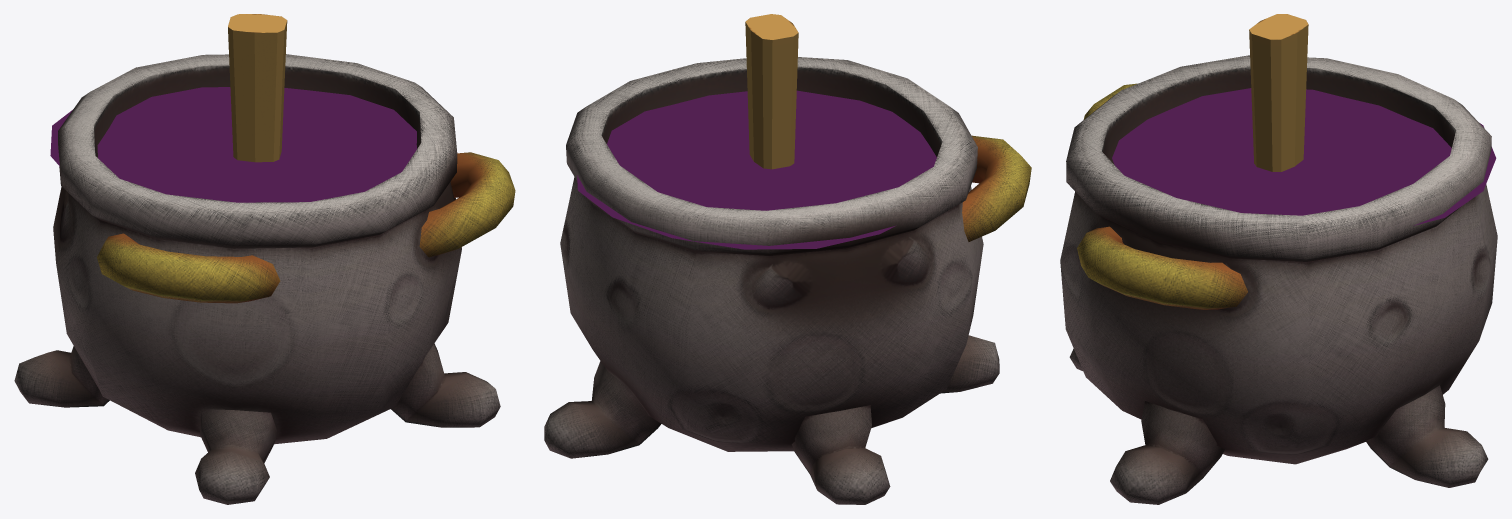
Rendered from Caldero.fbx.
3 renders of one model, left to right at view 1: azimuth 30°, elevation 25°; view 2: azimuth 150°, elevation 25°; view 3: azimuth 270°, elevation 25°, orthographic. The views are drawn at different scales.
Visible parts, largest first — view 1: Cube.023, Cube.024, Torus.001, Cylinder.013, Cylinder.003, Cylinder.004; view 2: Cube.023, Cube.024, Cylinder.004, Cylinder.003, Cylinder.013, Torus.001; view 3: Cube.023, Cube.024, Cylinder.003, Torus.001, Cylinder.013, Cylinder.004.
Boxes of the visible parts, bbox=[...] form: Cube.023: bbox=[53, 54, 461, 444]; Cube.024: bbox=[50, 87, 416, 202]; Torus.001: bbox=[97, 152, 515, 303]; Cylinder.013: bbox=[14, 343, 500, 427]; Cylinder.003: bbox=[228, 14, 287, 162]; Cylinder.004: bbox=[195, 409, 277, 504]; Cube.023: bbox=[560, 57, 983, 451]; Cube.024: bbox=[577, 90, 936, 249]; Cylinder.004: bbox=[544, 335, 999, 458]; Cylinder.003: bbox=[745, 14, 798, 169]; Cylinder.013: bbox=[791, 405, 890, 504]; Torus.001: bbox=[962, 135, 1031, 241]; Cube.023: bbox=[1060, 55, 1497, 464]; Cube.024: bbox=[1112, 88, 1496, 225]; Cylinder.003: bbox=[1249, 14, 1308, 171]; Torus.001: bbox=[1077, 83, 1247, 309]; Cylinder.013: bbox=[1110, 401, 1224, 504]; Cylinder.004: bbox=[1069, 348, 1488, 487].
Bounding box in the file's own units: 175 × 171 × 164.
